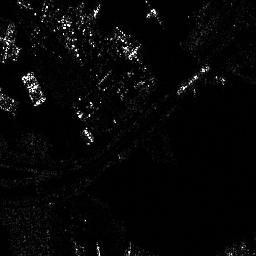ship: (178, 64, 211, 94)
